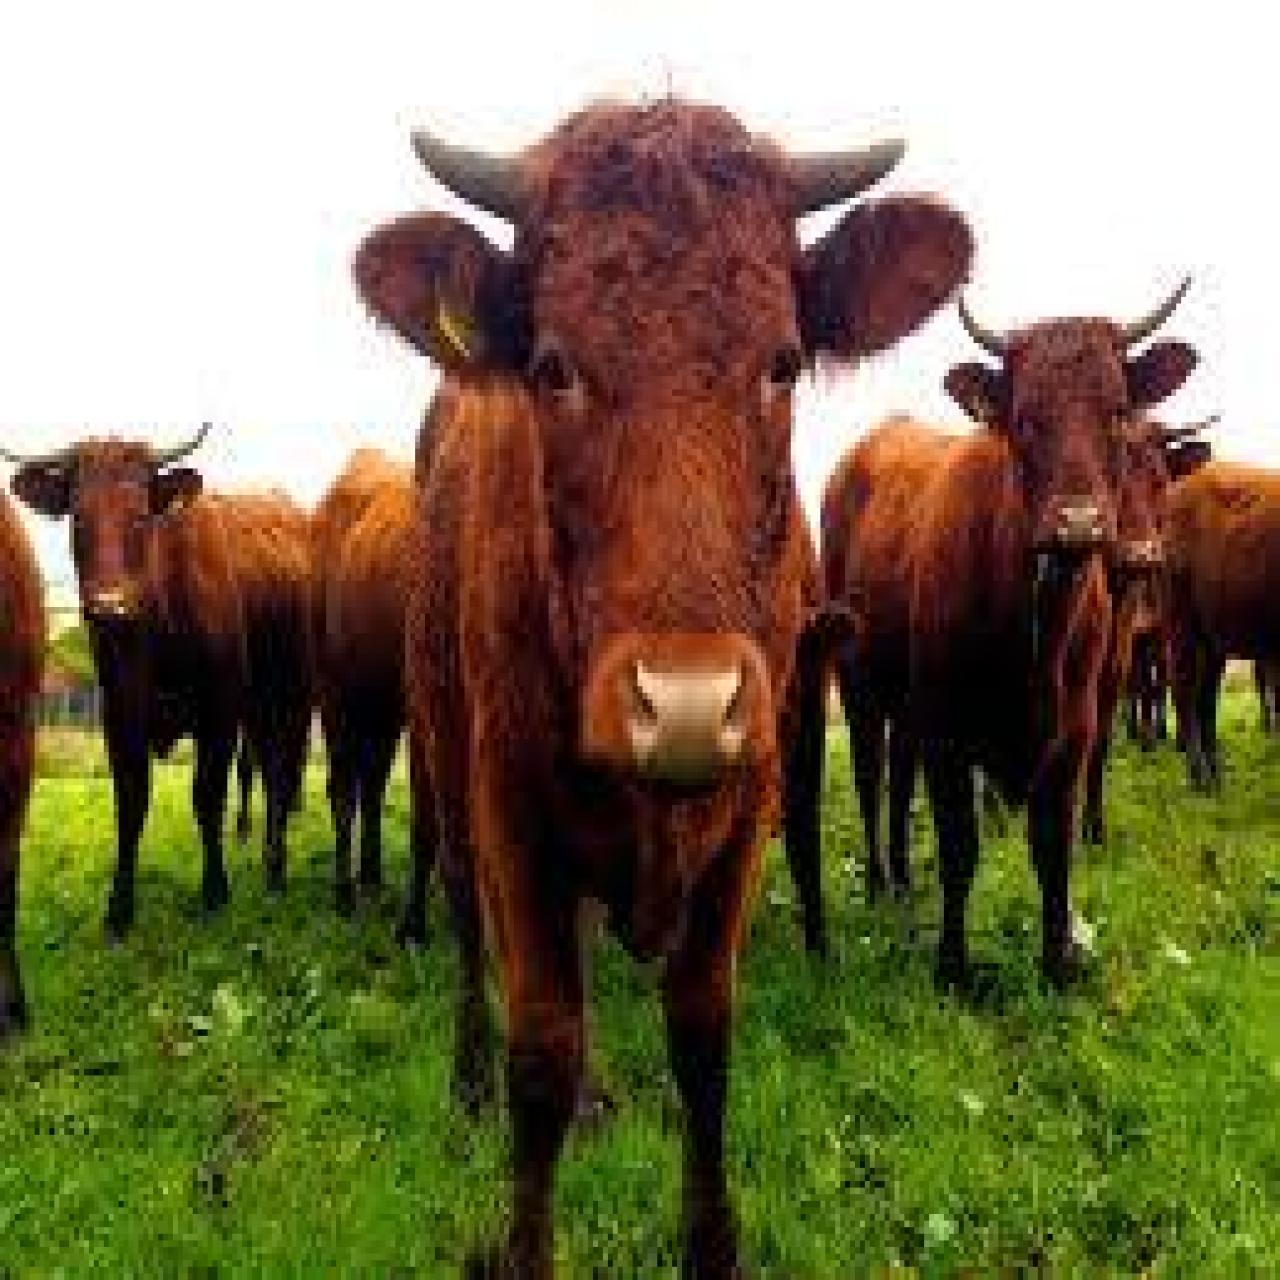cow: (358, 98, 966, 1280), (832, 307, 1193, 980), (20, 438, 321, 933), (1092, 406, 1216, 847), (316, 438, 435, 894)
